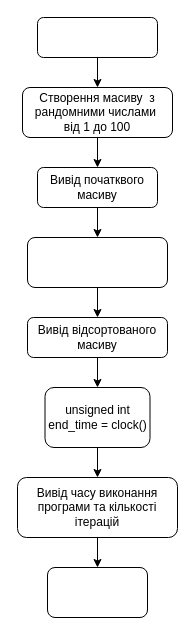
Image size: 195x635. Some labels were removed from this diagram. The shapes that lost their labels are listed below. From the top down, each one's box as (x1, y1, x2, y2) in pixels, then its label:
(36, 16, 158, 58): Початок
(26, 236, 168, 288): Сортування рядків матриці під головною діагоналю
(46, 566, 148, 618): Кінець
